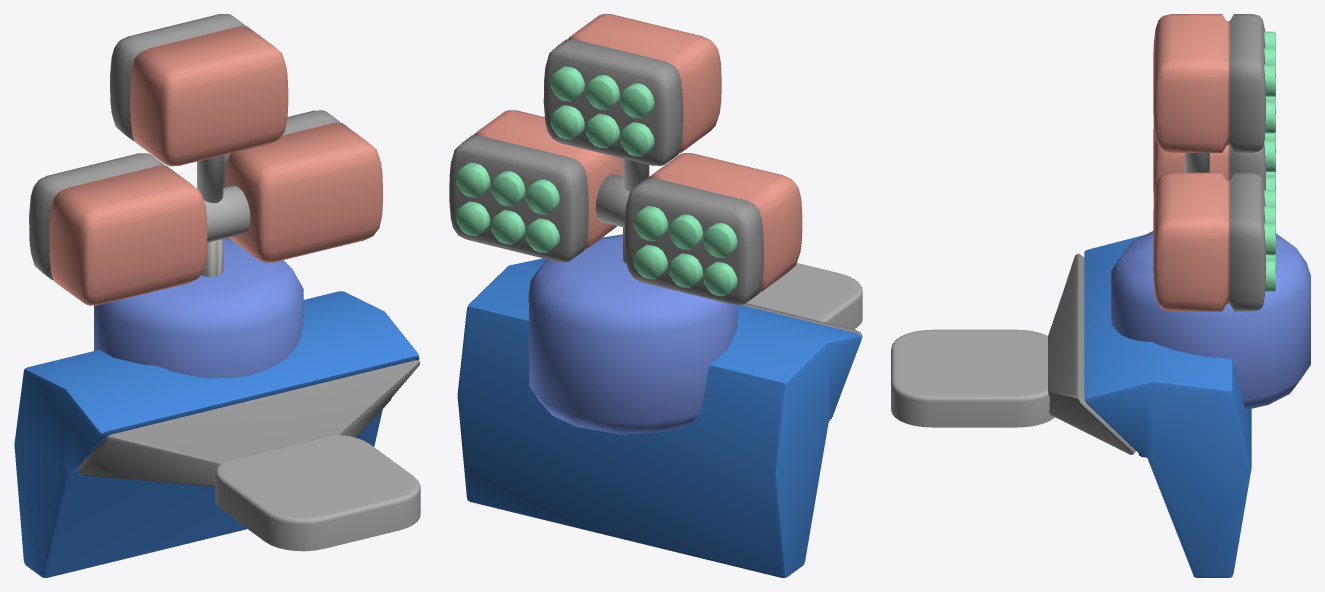
The model's file is rocket_level3.fbx.
3 renders of one model, left to right at view 1: azimuth 30°, elevation 25°; view 2: azimuth 150°, elevation 25°; view 3: azimuth 270°, elevation 25°, orthographic. The views are drawn at different scales.
Visible parts, largest first — view 1: WeaponBase, rocket_level2, rocket_level3, rocket_bottom, Cylinder.003; view 2: WeaponBase, rocket_level2, rocket_bottom, rocket_level3, Cylinder.003; view 3: WeaponBase, rocket_level2, rocket_bottom, rocket_level3.
Part boxes in pixels (x1,y1,x2,y2): WeaponBase: (14, 291, 420, 577); rocket_level2: (29, 110, 383, 305); rocket_level3: (110, 14, 288, 166); rocket_bottom: (94, 238, 303, 378); Cylinder.003: (197, 155, 223, 203); WeaponBase: (457, 258, 862, 577); rocket_level2: (449, 110, 802, 304); rocket_bottom: (528, 227, 737, 434); rocket_level3: (543, 14, 721, 165); Cylinder.003: (623, 158, 649, 191); WeaponBase: (891, 235, 1251, 577); rocket_level2: (1153, 125, 1275, 311); rocket_bottom: (1111, 231, 1310, 409); rocket_level3: (1153, 14, 1275, 152).
Bounding box in the file's own units: 92.74 × 135 × 109.
